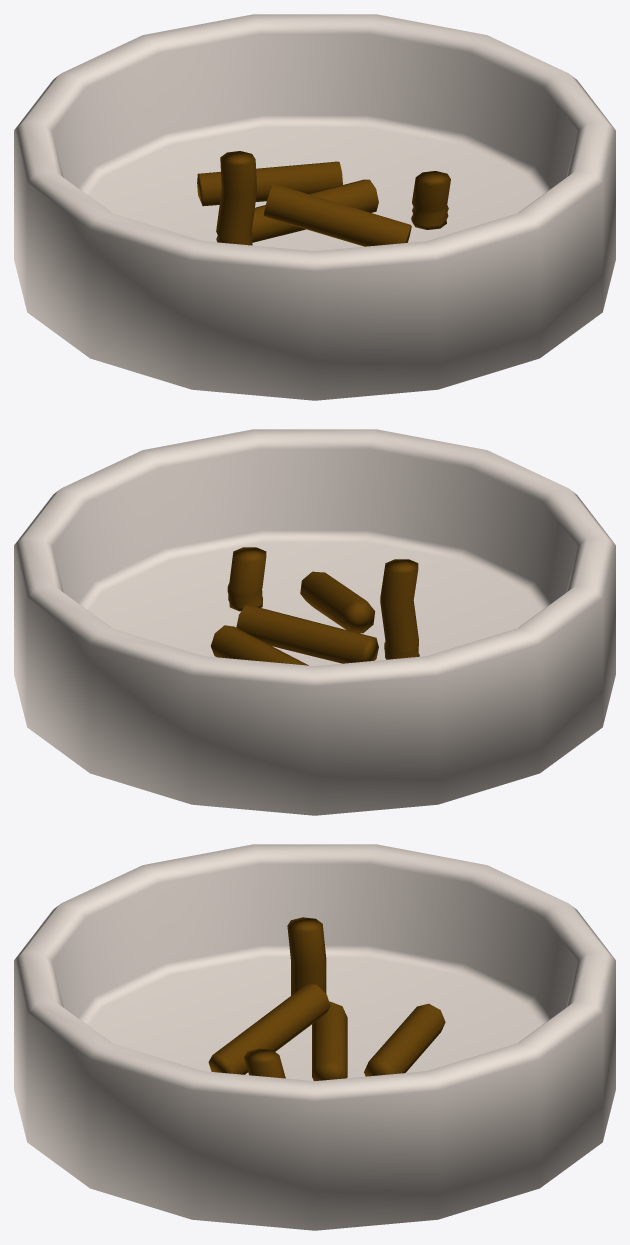
File: Eden_ashtray2.fbx
The picture shows the model from 3 angles, top to bottom: view 1: azimuth 30°, elevation 25°; view 2: azimuth 150°, elevation 25°; view 3: azimuth 270°, elevation 25°; orthographic projection.
Parts seen in each view (by area): view 1: Eden_ashtray; view 2: Eden_ashtray; view 3: Eden_ashtray.
Boxes of the visible parts, x1,y1,x2,y2 form: Eden_ashtray: (14, 14, 615, 400); Eden_ashtray: (14, 429, 615, 815); Eden_ashtray: (14, 844, 615, 1230).
Bounding box in the file's own units: 0.00514 × 0.00131 × 0.00517.
